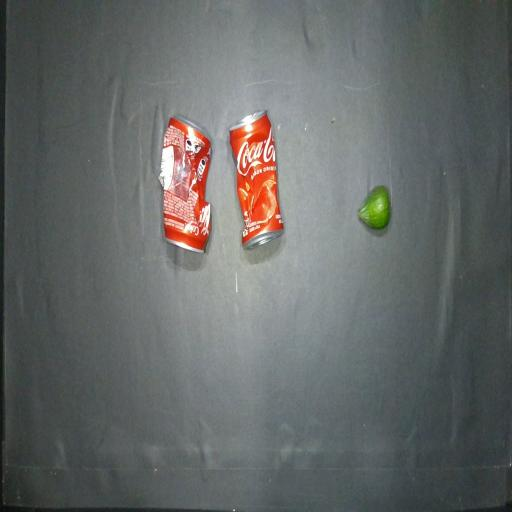higo: (358, 185, 390, 229)
lata_defectuoso: (230, 111, 283, 249), (159, 116, 211, 253)
